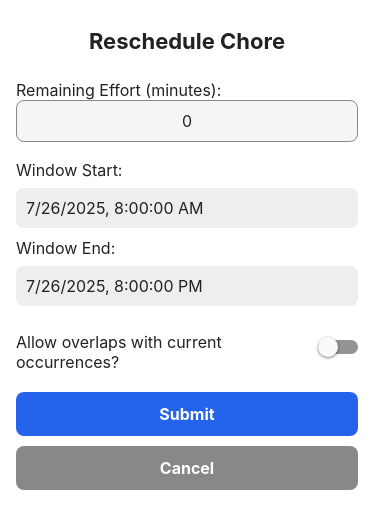
RescheduleScreen Component › Chore Reschedule › opens window start picker when start button is pressed
The image size is (375, 524).
// Get the first date button (window start)
What coordinates should you click on to do the following:
click the text "7/26/2025, 8:00:00 AM"
I would click on:
 (115, 208)
Its box is [26, 198, 204, 218].
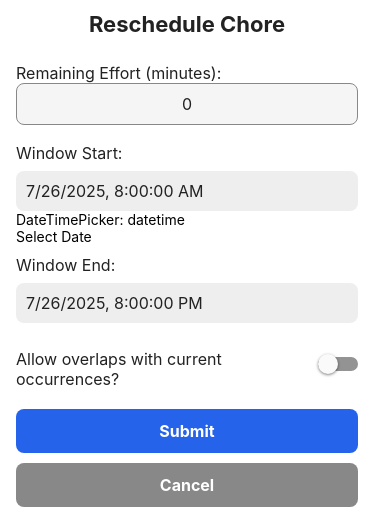
expect the element with test id "date-time-picker" is shown: met, box [16, 211, 185, 245]
